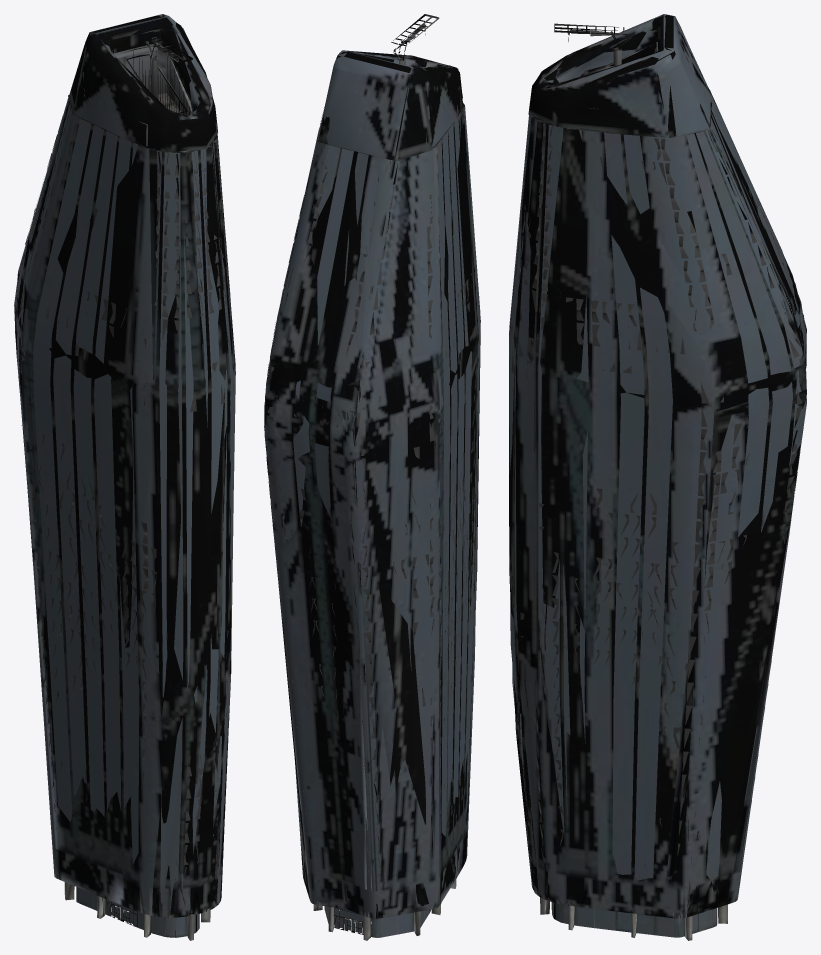
The model's file is curved_glass_tower_lod1.glb.
3 views of the same model, side by side, from view 1: azimuth 30°, elevation 25°; view 2: azimuth 150°, elevation 25°; view 3: azimuth 270°, elevation 25° (orthographic). The views are drawn at different scales.
Parts seen in each view (by area): view 1: curved_glass_tower; view 2: curved_glass_tower; view 3: curved_glass_tower.
Part boxes in pixels (x1,y1,x2,y2): curved_glass_tower: (14,14,235,940); curved_glass_tower: (264,14,480,940); curved_glass_tower: (509,14,806,940).
Bounding box in the file's own units: 34.81 × 170 × 51.63.
Materials: 1 (1 with a texture image).
